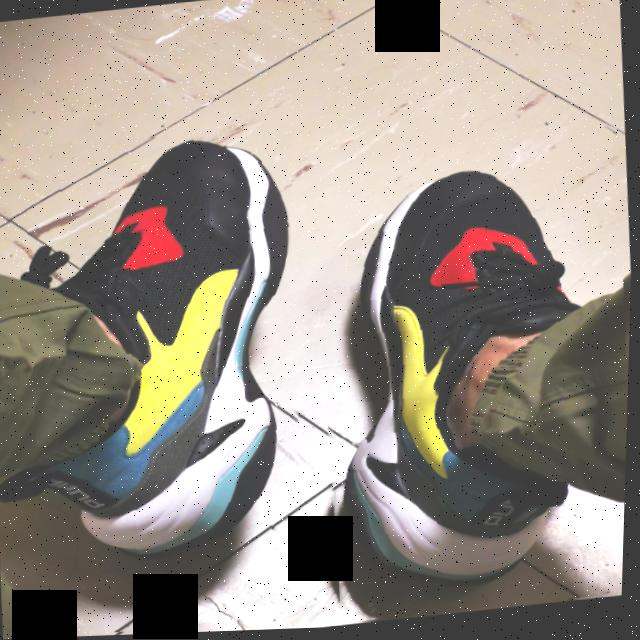shoe: (298, 124, 637, 628), (13, 121, 325, 639)
